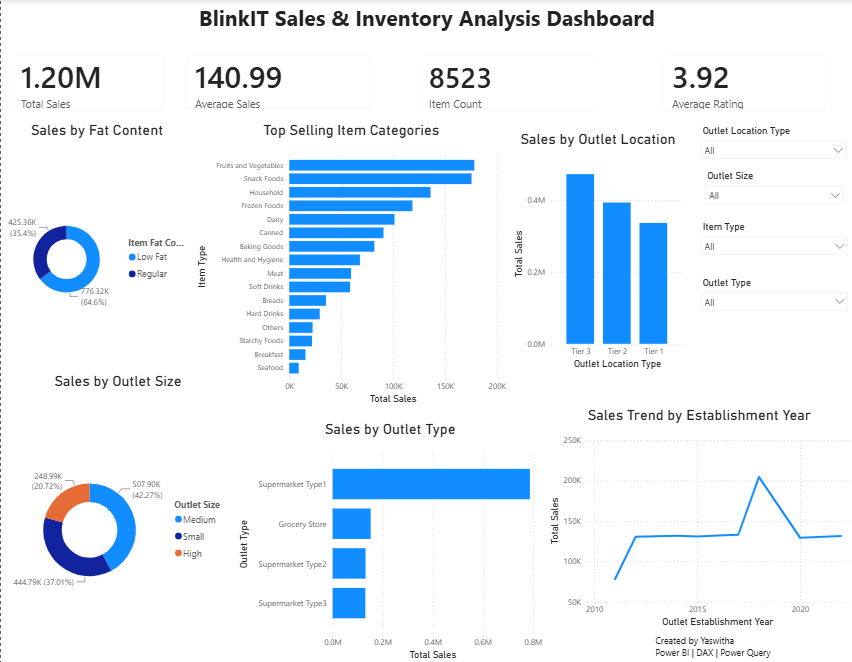

The page's visual inventory and layout, read from the dashboard file:
{"tool":"powerbi","page":{"name":"Page 1","canvas":[1280,1000],"ordinal":0},"visuals":[{"type":"cardVisual","fields":{"Data":["BlinkIT Grocery Data.Total Sales"]},"box":[0,67.5,260.9,116.9],"z":0},{"type":"cardVisual","fields":{"Data":["BlinkIT Grocery Data.Item Count"]},"box":[611.7,67.5,299.1,116.9],"z":1000},{"type":"cardVisual","fields":{"Data":["BlinkIT Grocery Data.Average Sales"]},"box":[260.9,67.5,310.4,114.7],"z":2000},{"type":"cardVisual","fields":{"Data":["BlinkIT Grocery Data.Average Rating"]},"box":[976,67.5,278.9,116.9],"z":3000},{"type":"donutChart","title":"Sales by Fat Content","fields":{"Category":["BlinkIT Grocery Data.Item Fat Content"],"Y":["BlinkIT Grocery Data.Total Sales"]},"box":[0,184.4,287.9,375.6],"z":4000},{"type":"clusteredBarChart","title":"Top Selling Item Categories","fields":{"Category":["BlinkIT Grocery Data.Item Type"],"Y":["BlinkIT Grocery Data.Total Sales"]},"box":[287.9,184.4,474.5,427.3],"z":5000},{"type":"clusteredColumnChart","title":"Sales by Outlet Location","fields":{"Category":["BlinkIT Grocery Data.Outlet Location Type"],"Y":["BlinkIT Grocery Data.Total Sales"]},"box":[762.4,197.9,265.4,362.1],"z":6000},{"type":"donutChart","title":"Sales by Outlet Size","fields":{"Category":["BlinkIT Grocery Data.Outlet Size"],"Y":["BlinkIT Grocery Data.Total Sales"]},"box":[0,560,350.8,436.3],"z":7000},{"type":"clusteredBarChart","title":"Sales by Outlet Type","fields":{"Category":["BlinkIT Grocery Data.Outlet Type"],"Y":["BlinkIT Grocery Data.Total Sales"]},"box":[350.8,631.9,465.5,364.3],"z":8000},{"type":"lineChart","title":"Sales Trend by Establishment Year","fields":{"Category":["BlinkIT Grocery Data.Outlet Establishment Year"],"Y":["BlinkIT Grocery Data.Total Sales"]},"box":[816.4,611.7,461,335.1],"z":9000},{"type":"slicer","fields":{"Values":["BlinkIT Grocery Data.Outlet Location Type"]},"box":[1039,184.4,238.4,72],"z":10000},{"type":"slicer","fields":{"Values":["BlinkIT Grocery Data.Item Type"]},"box":[1039,328.3,240.6,78.7],"z":11000},{"type":"slicer","fields":{"Values":["BlinkIT Grocery Data.Outlet Type"]},"box":[1039,411.6,240.6,87.7],"z":12000},{"type":"slicer","fields":{"Values":["BlinkIT Grocery Data.Outlet Size"]},"box":[1045.8,251.9,227.1,76.5],"z":13000},{"type":"textbox","box":[0,0,1277.4,67.5],"z":14000},{"type":"textbox","box":[976,946.8,301.4,49.5],"z":15000}]}

Visuals, with their boxes in screenshot pixels (x1, y1, x2, y2), scaled from the page's 1280x1000 canvas onto the 852x662 screenshot:
cardVisual - BlinkIT Grocery Data.Total Sales: crop(0, 45, 174, 122)
cardVisual - BlinkIT Grocery Data.Item Count: crop(407, 45, 606, 122)
cardVisual - BlinkIT Grocery Data.Average Sales: crop(174, 45, 380, 121)
cardVisual - BlinkIT Grocery Data.Average Rating: crop(650, 45, 835, 122)
"Sales by Fat Content" donutChart: crop(0, 122, 192, 371)
"Top Selling Item Categories" clusteredBarChart: crop(192, 122, 507, 405)
"Sales by Outlet Location" clusteredColumnChart: crop(507, 131, 684, 371)
"Sales by Outlet Size" donutChart: crop(0, 371, 234, 660)
"Sales by Outlet Type" clusteredBarChart: crop(234, 418, 543, 659)
"Sales Trend by Establishment Year" lineChart: crop(543, 405, 850, 627)
slicer - BlinkIT Grocery Data.Outlet Location Type: crop(692, 122, 850, 170)
slicer - BlinkIT Grocery Data.Item Type: crop(692, 217, 851, 269)
slicer - BlinkIT Grocery Data.Outlet Type: crop(692, 272, 851, 331)
slicer - BlinkIT Grocery Data.Outlet Size: crop(696, 167, 847, 217)
textbox: crop(0, 0, 850, 45)
textbox: crop(650, 627, 850, 660)
